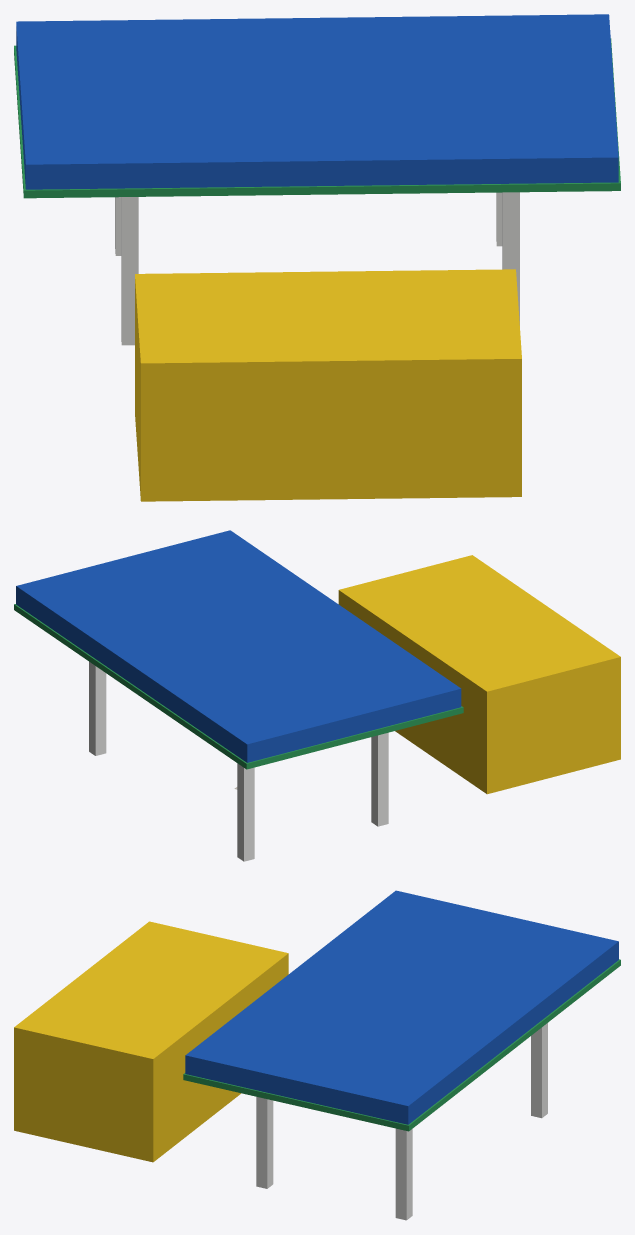
The model's file is gas_r24.glb.
The picture shows the model from 3 angles, top to bottom: view 1: azimuth 30°, elevation 25°; view 2: azimuth 150°, elevation 25°; view 3: azimuth 270°, elevation 25°; orthographic projection. The views are drawn at different scales.
Parts seen in each view (by area): view 1: gas_r24_lod0; view 2: gas_r24_lod0; view 3: gas_r24_lod0.
Boxes of the visible parts, <box> form: gas_r24_lod0: <box>14,14,620,501</box>; gas_r24_lod0: <box>14,530,620,861</box>; gas_r24_lod0: <box>14,890,620,1220</box>.
Size of what is drawn, in the model's own units: 17.55 by 5.35 by 19.17.
